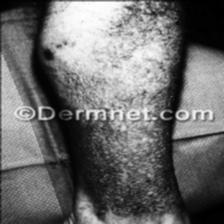Unclassified: (55, 0, 170, 102), (80, 128, 176, 208)
